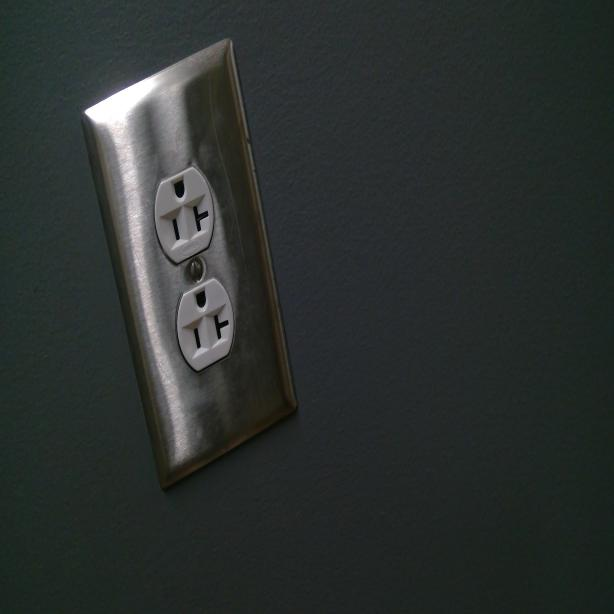typeb: (151, 176, 211, 256), (173, 284, 232, 362)
